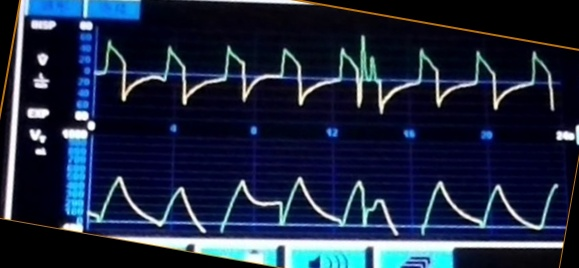Double_Triggering Flow: (110, 35, 497, 120)
Double_Triggering Volume: (117, 159, 499, 235)
